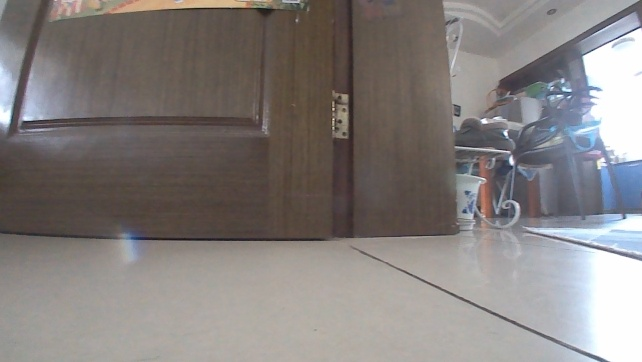blanket: (515, 222, 641, 262)
